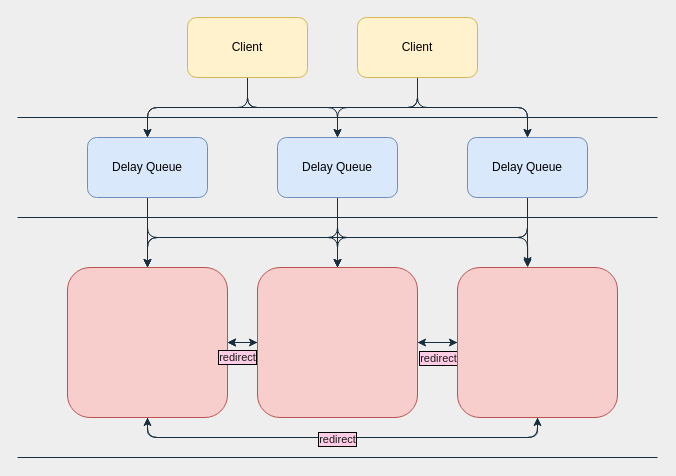
Some shapes in this 676 by 476 pixel diagram are drawn without their labels. The centre of each missing label's shape, as x and y in pixels:
"Redis Cluster 1 bucket-key-1 job-key-1 queue-key-1 ..." belongs at point (147, 342).
"Redis Cluster 2 bucket-key-2 job-key-2 queue-key-2 ..." belongs at point (337, 342).
"Redis Cluster 3 bucket-key-3 job-key-3 queue-key-3 ..." belongs at point (537, 342).
